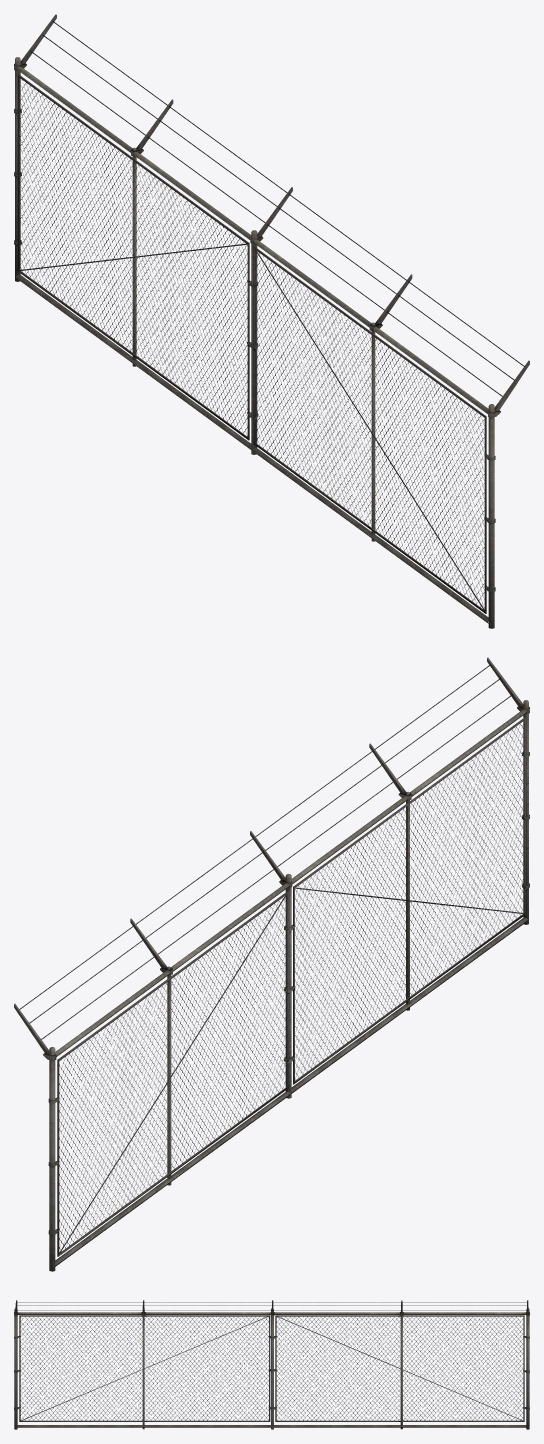
The model's file is exterior_fence002e.glb.
The picture shows the model from 3 angles, top to bottom: view 1: azimuth 30°, elevation 25°; view 2: azimuth 150°, elevation 25°; view 3: azimuth 270°, elevation 25°; orthographic projection. The views are drawn at different scales.
Parts seen in each view (by area): view 1: 1_fence_alpha, 0_fence_sheet01; view 2: 1_fence_alpha, 0_fence_sheet01; view 3: 1_fence_alpha, 0_fence_sheet01.
Part boxes in pixels (x1=…): 1_fence_alpha: x1=19, y1=80, x2=484, y2=607; 0_fence_sheet01: x1=14, y1=14, x2=529, y2=628; 1_fence_alpha: x1=59, y1=721, x2=524, y2=1251; 0_fence_sheet01: x1=14, y1=657, x2=529, y2=1271; 1_fence_alpha: x1=20, y1=1316, x2=523, y2=1420; 0_fence_sheet01: x1=14, y1=1300, x2=529, y2=1429.
Size of the model in its own units: 0.6656 by 3.87 by 13.03.
Materials: 2 (2 with a texture image).
